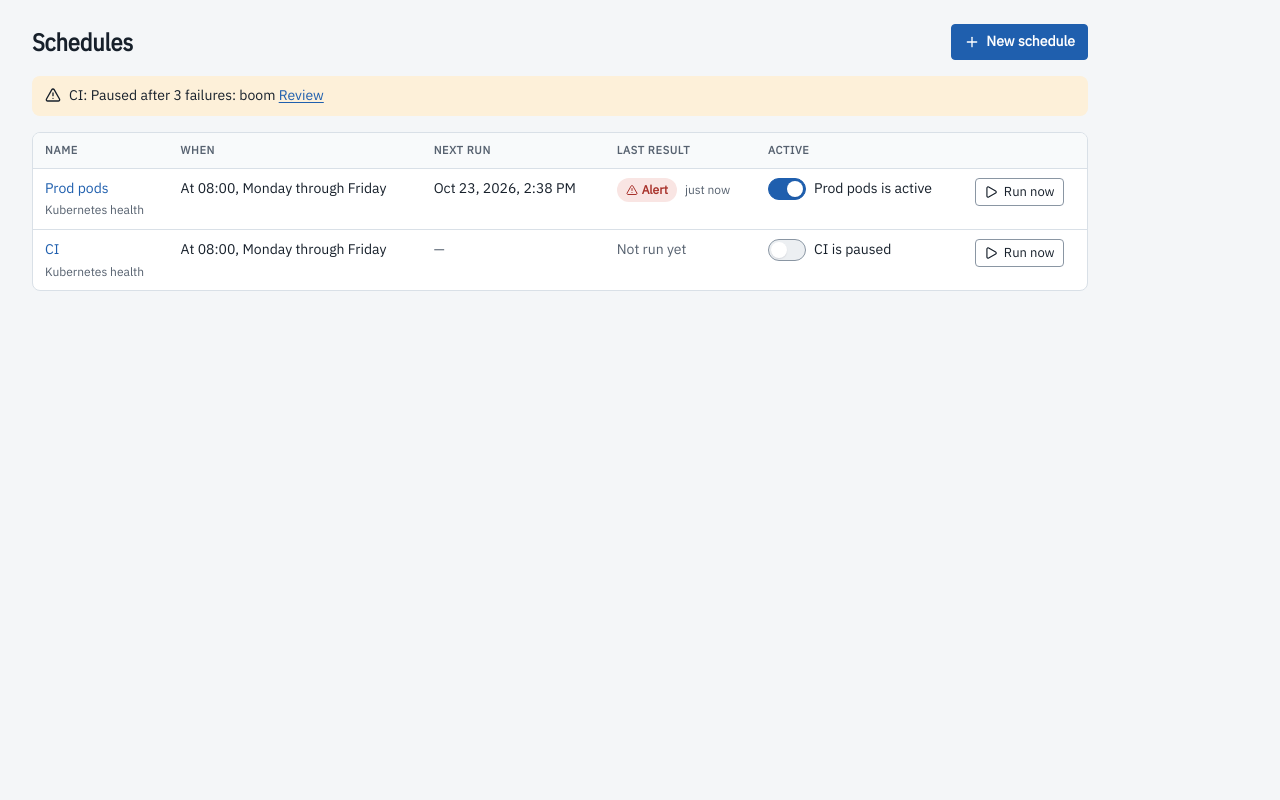
it: Schedules (07 §4.7) › lists schedules with timing, last result and a paused banner; toggles and runs
Expected: the row "Prod pods" shows "At 08:00, Monday through Friday", [180,179,386,197]
Expected: the row "Prod pods" shows "Alert", [642,182,668,197]
Click the switch next to "Prod pods is active" at [787, 189], box [768,178,806,200]
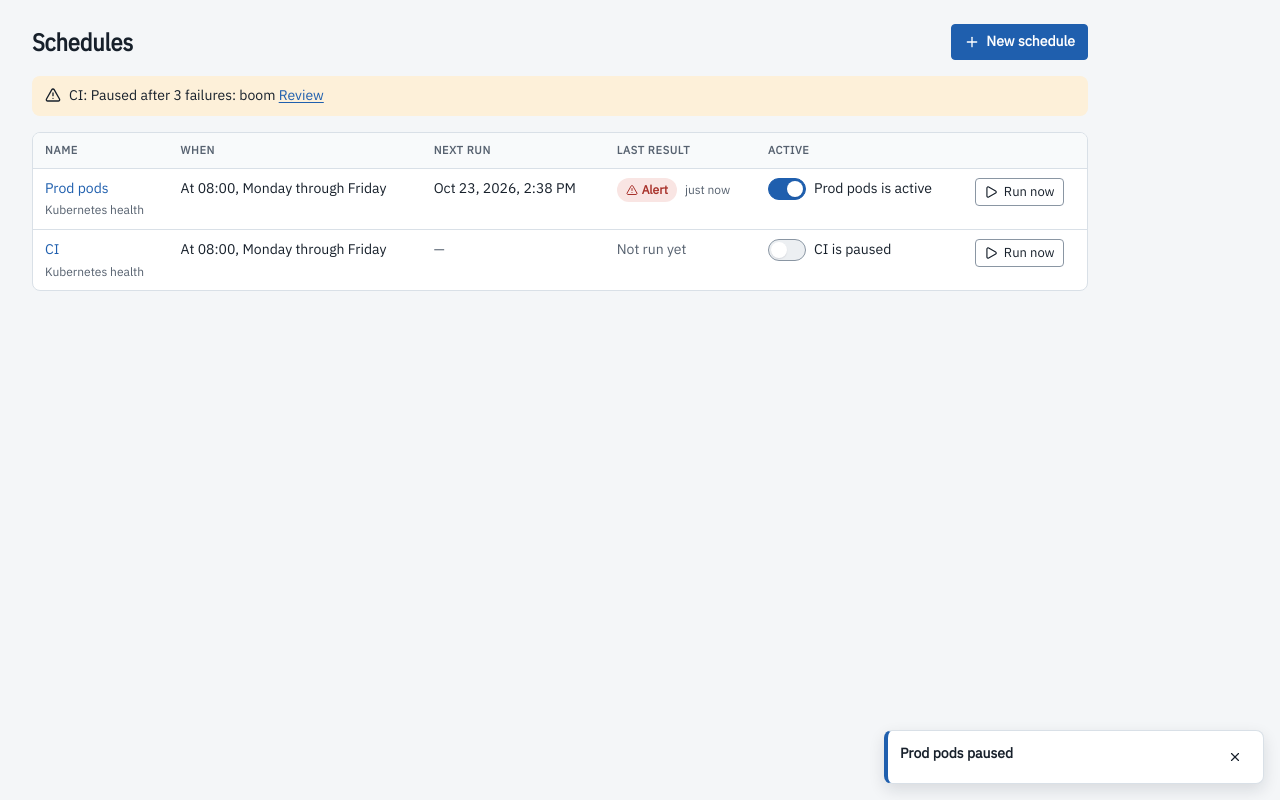
Click the button "Run now" in the row of "Oct 23, 2026, 2:38 PM" at [1019, 192], box [975,178,1064,206]
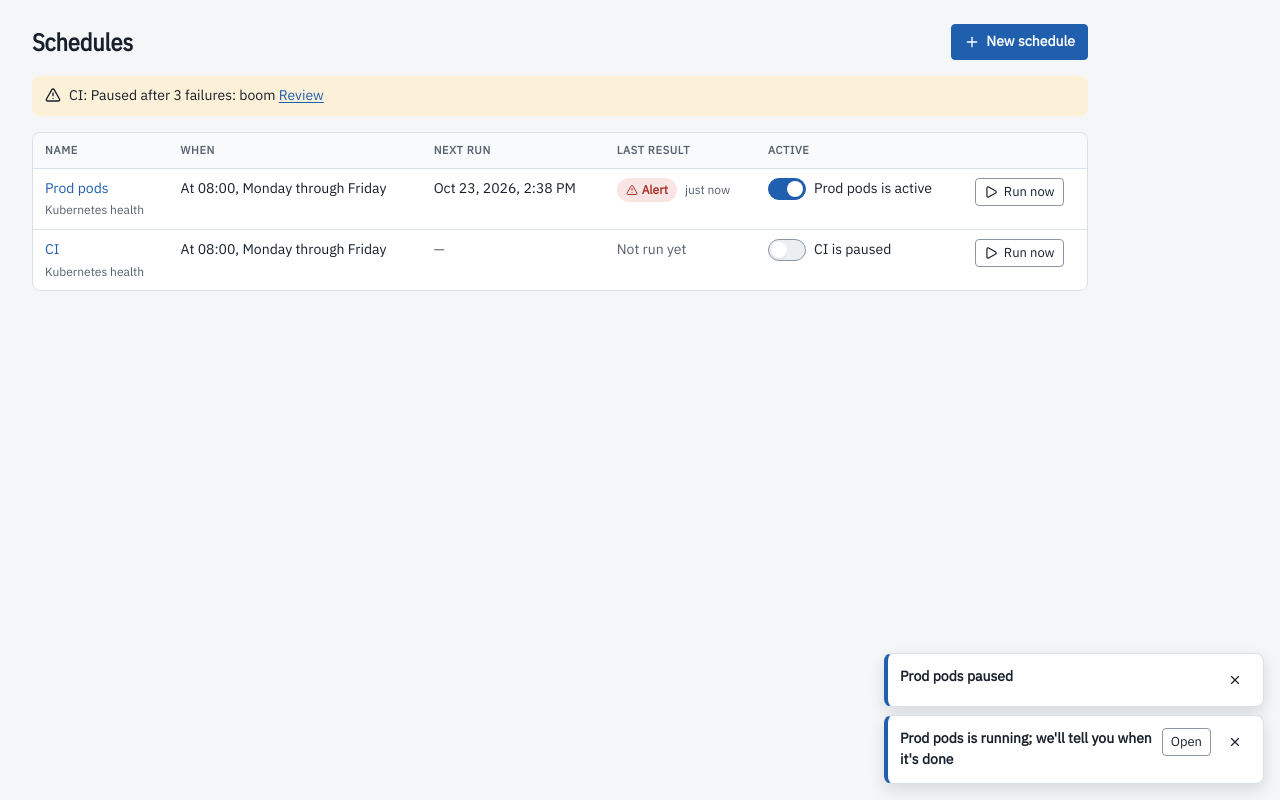
Result: the text "Prod pods is running; we'll tell you when it's done" is shown at [900,729,1152,768]
